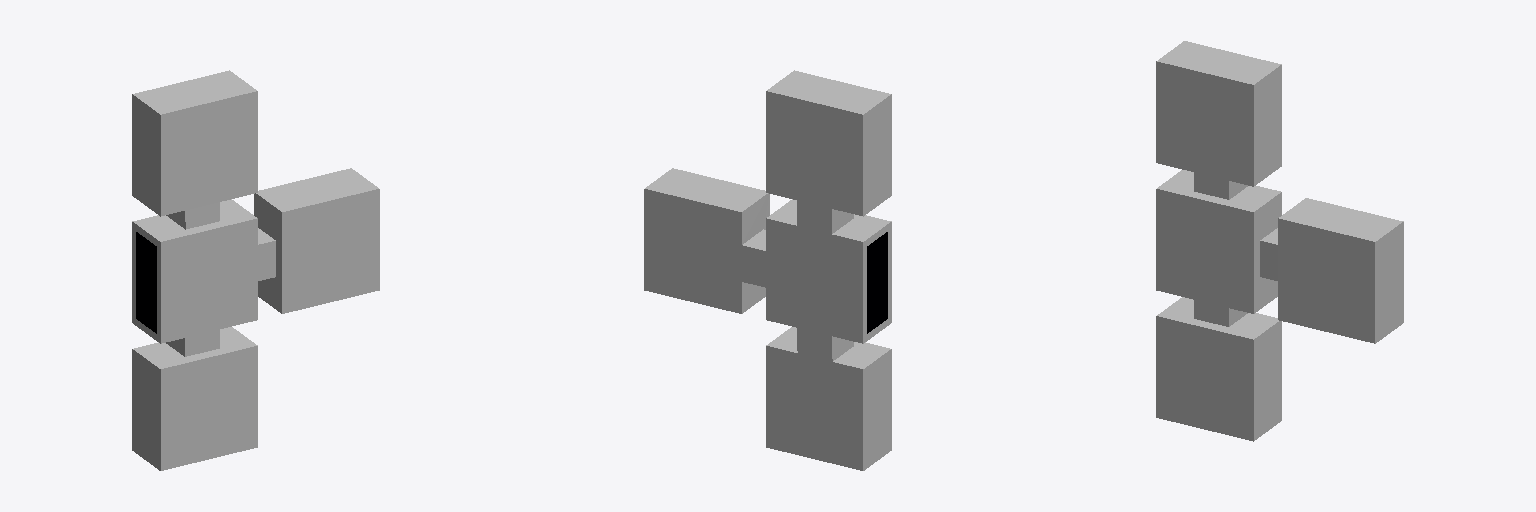
File: spaceCompound.obj
3 views of the same model, side by side, from view 1: azimuth 30°, elevation 25°; view 2: azimuth 150°, elevation 25°; view 3: azimuth 330°, elevation 25° (orthographic).
Parts seen in each view (by area): view 1: spaceCompound; view 2: spaceCompound; view 3: spaceCompound.
Boxes of the visible parts, x1=… form: spaceCompound: x1=132, y1=70, x2=379, y2=470; spaceCompound: x1=644, y1=70, x2=891, y2=470; spaceCompound: x1=1156, y1=41, x2=1403, y2=441.
Size of the model in its own units: 45 by 70 by 10.